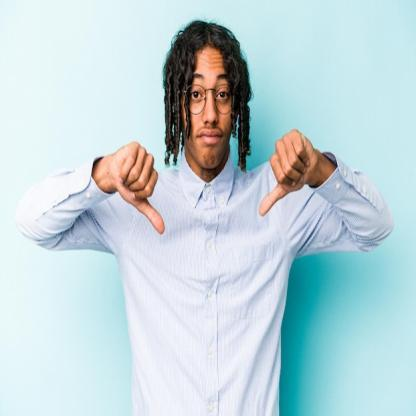thumb_down: (104, 136, 170, 236), (256, 122, 317, 219)
